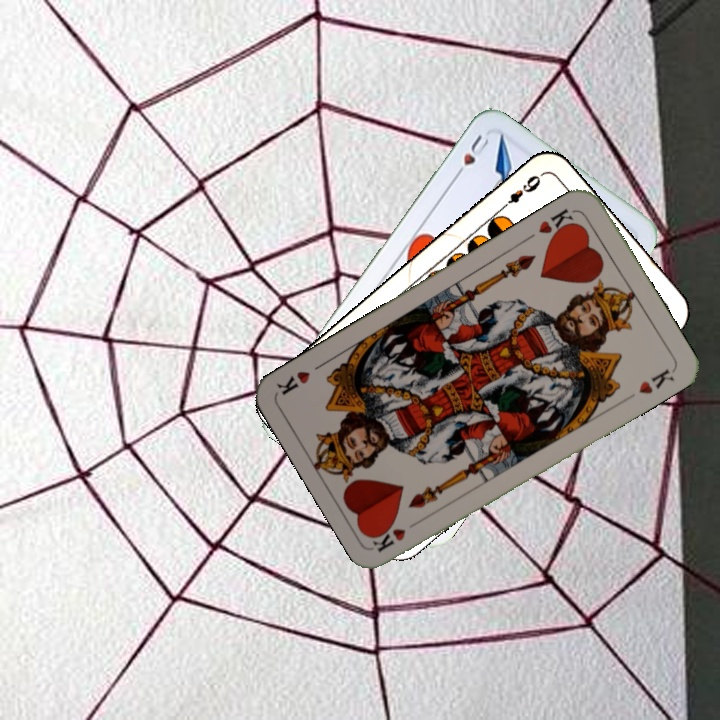E9: (497, 169, 545, 213)
HK: (370, 514, 426, 555), (534, 204, 579, 242)
HU: (449, 130, 493, 182)
